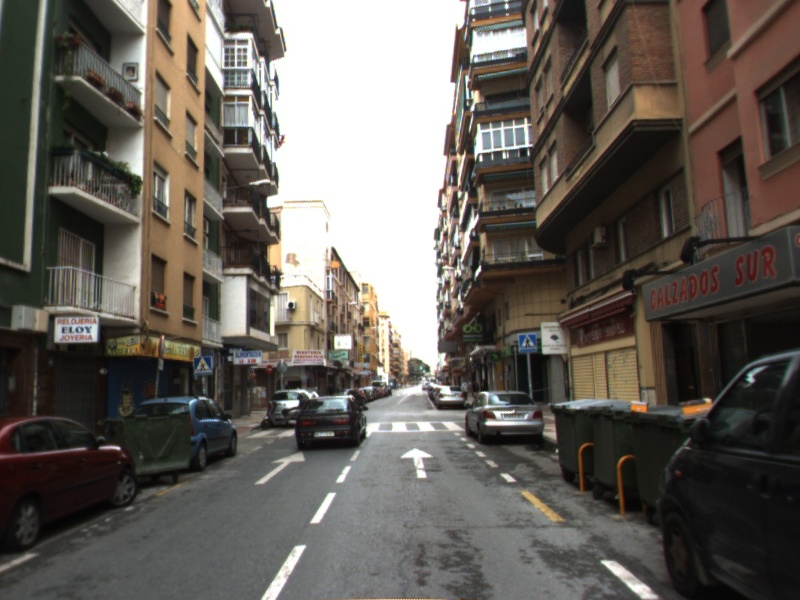STRAIGHT: (253, 449, 307, 486), (398, 446, 435, 480)
